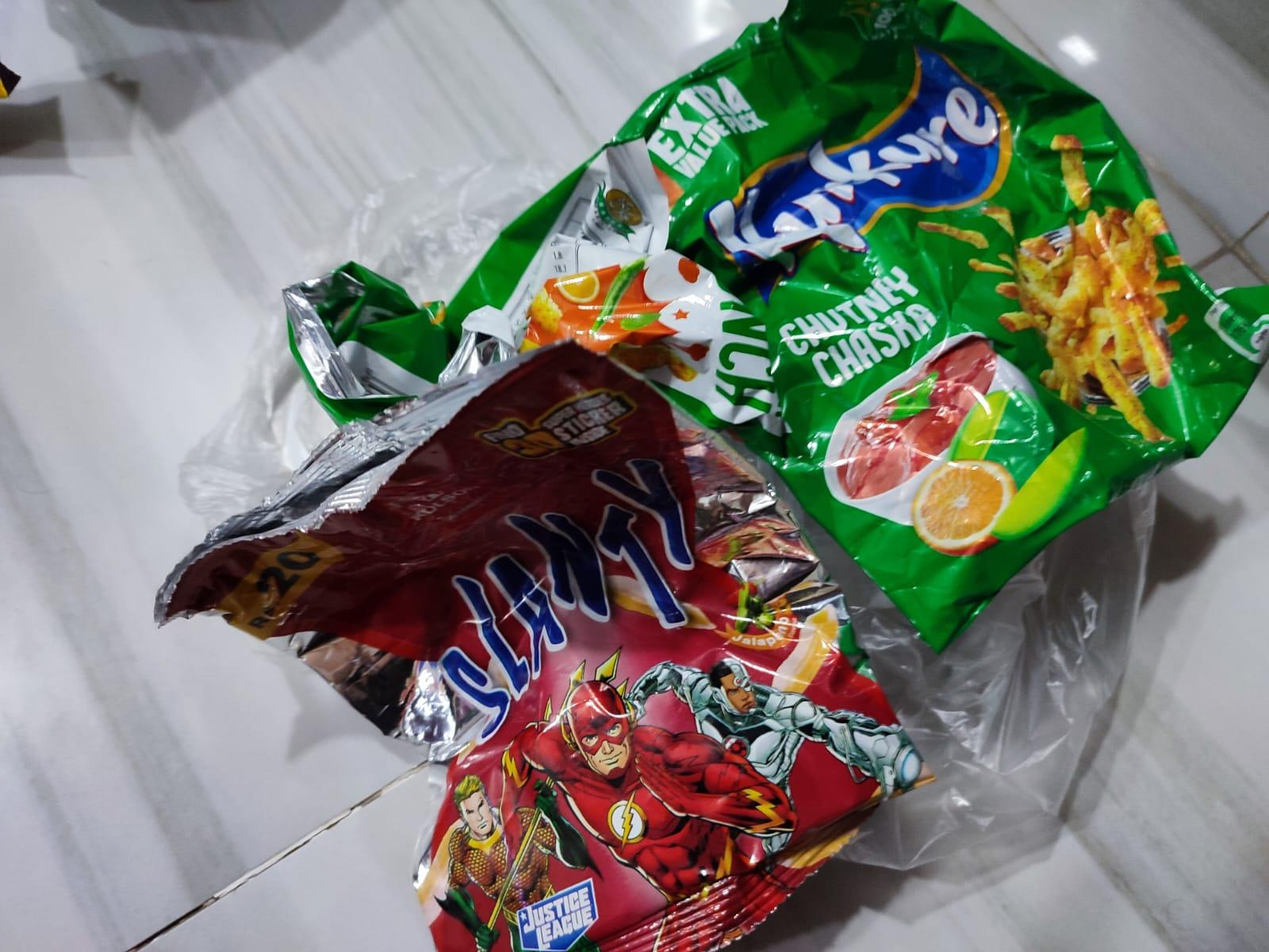garbage: (146, 15, 1269, 952)
